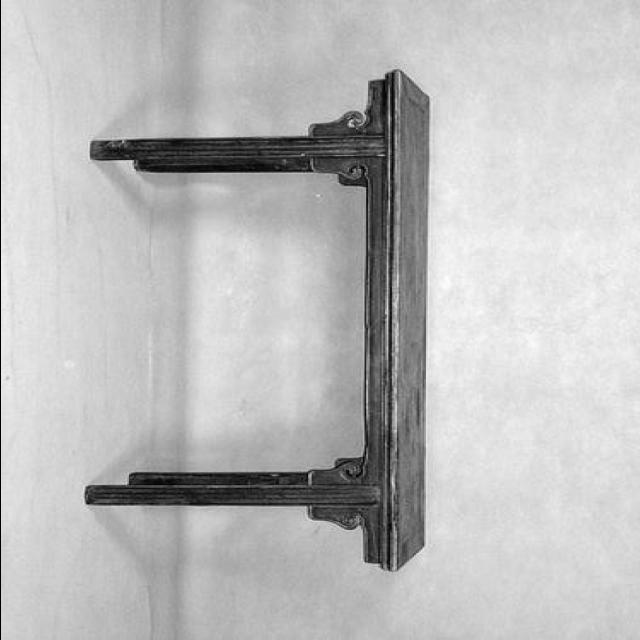table: (84, 72, 428, 570)
